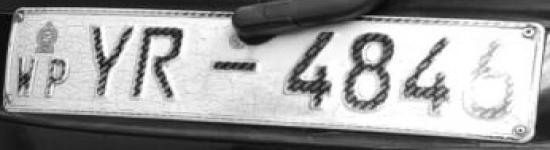-: (205, 57, 260, 77)
4: (400, 33, 460, 120), (284, 28, 336, 113)
6: (460, 36, 518, 122)
8: (338, 28, 397, 116)
P: (40, 56, 72, 103)
R: (135, 23, 190, 106)
W: (13, 53, 41, 100)
Y: (82, 20, 135, 101)
